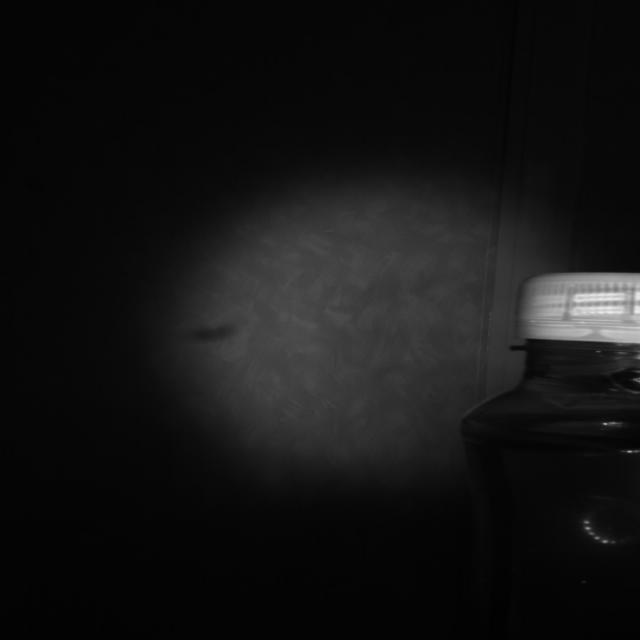Good: (516, 269, 640, 348)
